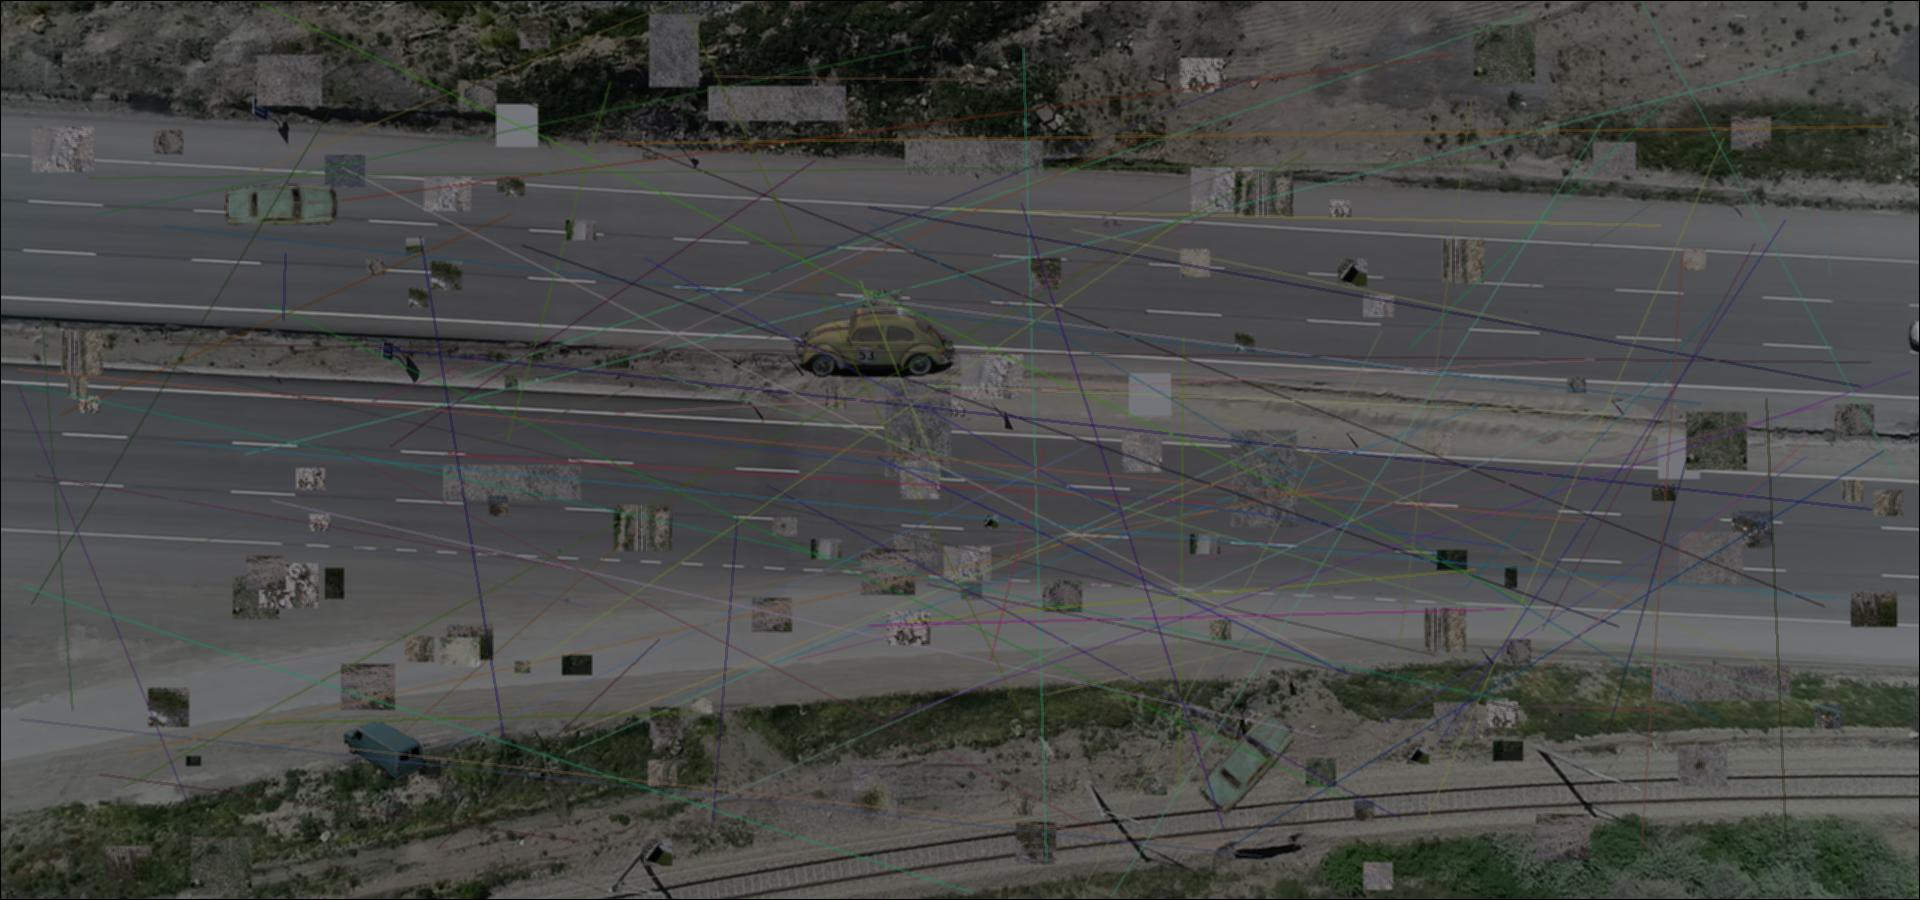arac: (791, 305, 959, 380), (1199, 713, 1296, 816), (220, 181, 340, 225), (343, 719, 424, 781)
